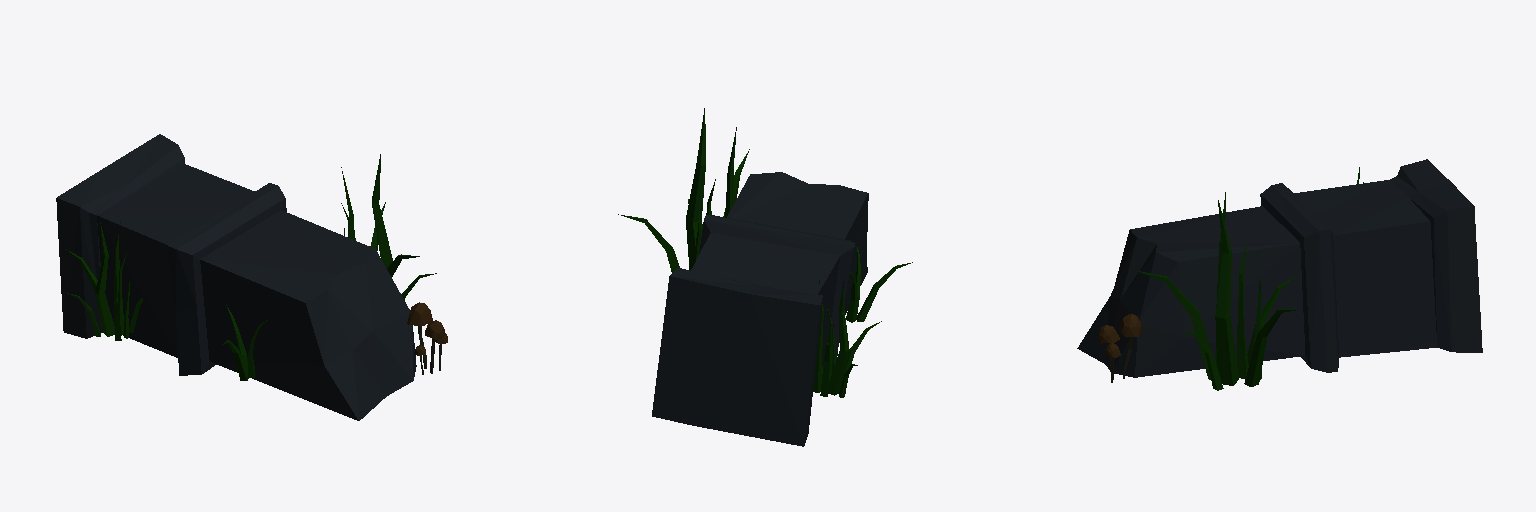
The model's file is pillar3.obj.
3 renders of one model, left to right at view 1: azimuth 30°, elevation 25°; view 2: azimuth 150°, elevation 25°; view 3: azimuth 270°, elevation 25°, orthographic.
Visible parts, largest first — view 1: Ruins3.001_Cube.054; view 2: Ruins3.001_Cube.054; view 3: Ruins3.001_Cube.054.
Part boxes in pixels (x1,y1,x2,y2): Ruins3.001_Cube.054: (56, 134, 447, 420); Ruins3.001_Cube.054: (618, 108, 912, 446); Ruins3.001_Cube.054: (1077, 159, 1482, 390).
Size of the model in its own units: 3.05 by 2.21 by 3.81.